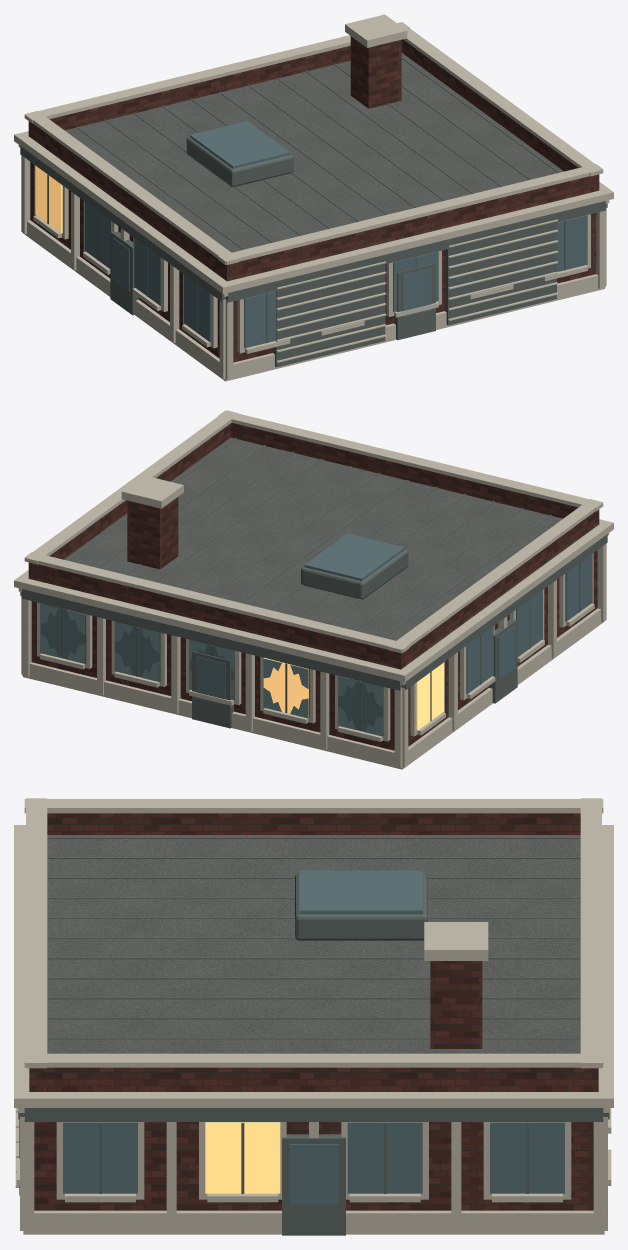
Rendered from warehouse.glb.
The picture shows the model from 3 angles, top to bottom: view 1: azimuth 30°, elevation 25°; view 2: azimuth 150°, elevation 25°; view 3: azimuth 270°, elevation 25°; orthographic projection. The views are drawn at different scales.
Parts seen in each view (by area): view 1: roof, foundation, roof tar seam, masonry, window pane, window pane.003; view 2: foundation, roof, masonry, roof tar seam, window pane, window pane.005, window glass remnant, window pane.006, window pane.003; view 3: roof, foundation, masonry, roof tar seam, window pane, window pane.003.
Part boxes in pixels (bbox=[...]): roof: bbox=[42, 53, 577, 277]; foundation: bbox=[14, 14, 613, 381]; roof tar seam: bbox=[20, 57, 607, 367]; masonry: bbox=[28, 36, 599, 362]; window pane: bbox=[85, 121, 587, 348]; window pane.003: bbox=[35, 165, 62, 233]; foundation: bbox=[14, 410, 613, 769]; roof: bbox=[28, 437, 597, 668]; masonry: bbox=[28, 423, 599, 750]; roof tar seam: bbox=[20, 438, 607, 731]; window pane: bbox=[196, 533, 592, 705]; window pane.005: bbox=[40, 603, 383, 736]; window glass remnant: bbox=[40, 604, 382, 736]; window pane.006: bbox=[263, 658, 308, 717]; window pane.003: bbox=[416, 662, 443, 730]; roof: bbox=[47, 835, 580, 1091]; foundation: bbox=[14, 798, 613, 1234]; masonry: bbox=[29, 813, 598, 1210]; roof tar seam: bbox=[18, 837, 609, 1235]; window pane: bbox=[63, 870, 564, 1204]; window pane.003: bbox=[205, 1122, 280, 1193].
Size of the model in its own units: 13.65 by 5.68 by 12.65.
8 materials, 2 textured.
